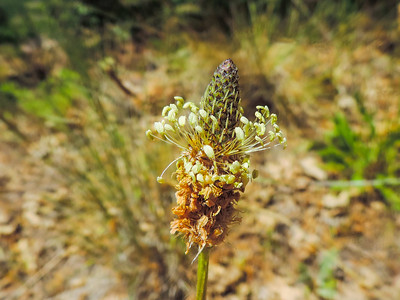buckhorn plantain: (142, 55, 280, 300)
